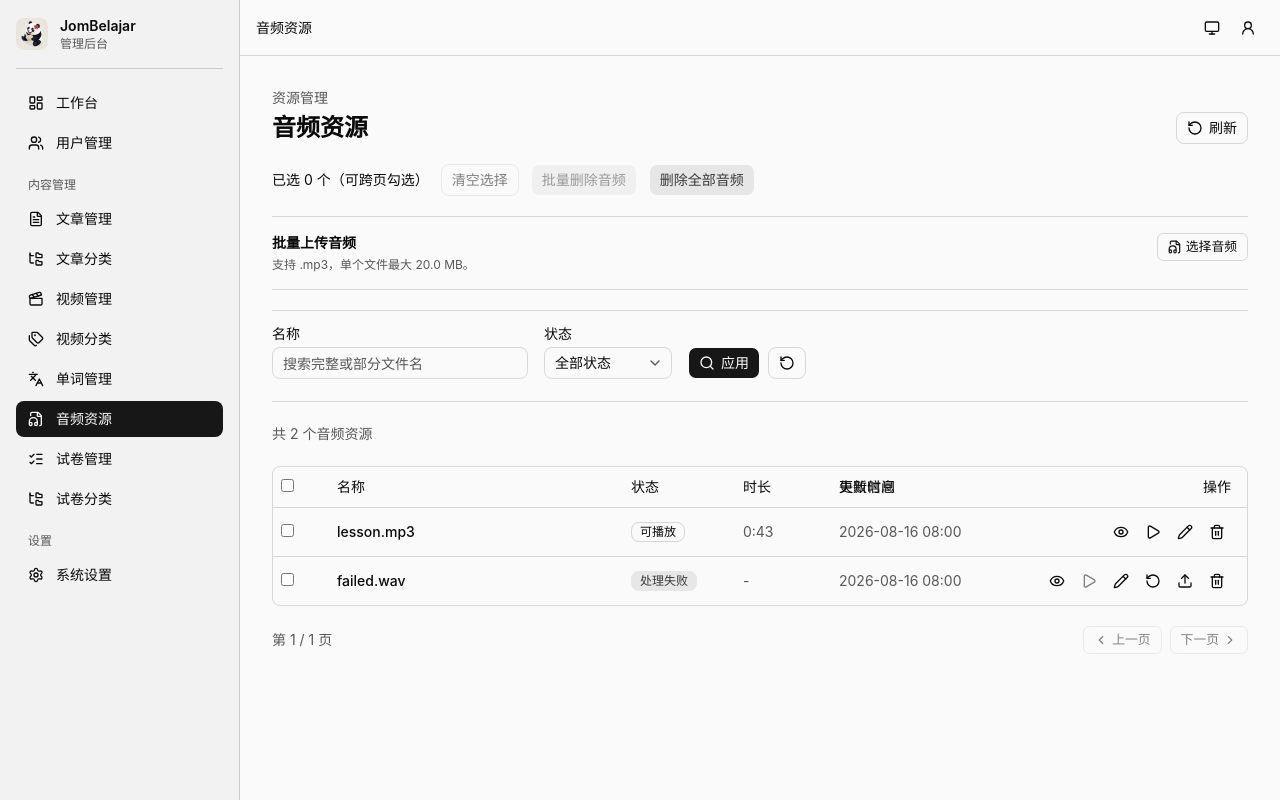
Test case: AudioLibrary › keeps the single-file control for retrying a failed resource
Click the button named "重新上传 failed.wav": [1185, 580] box [1171, 566, 1199, 594]
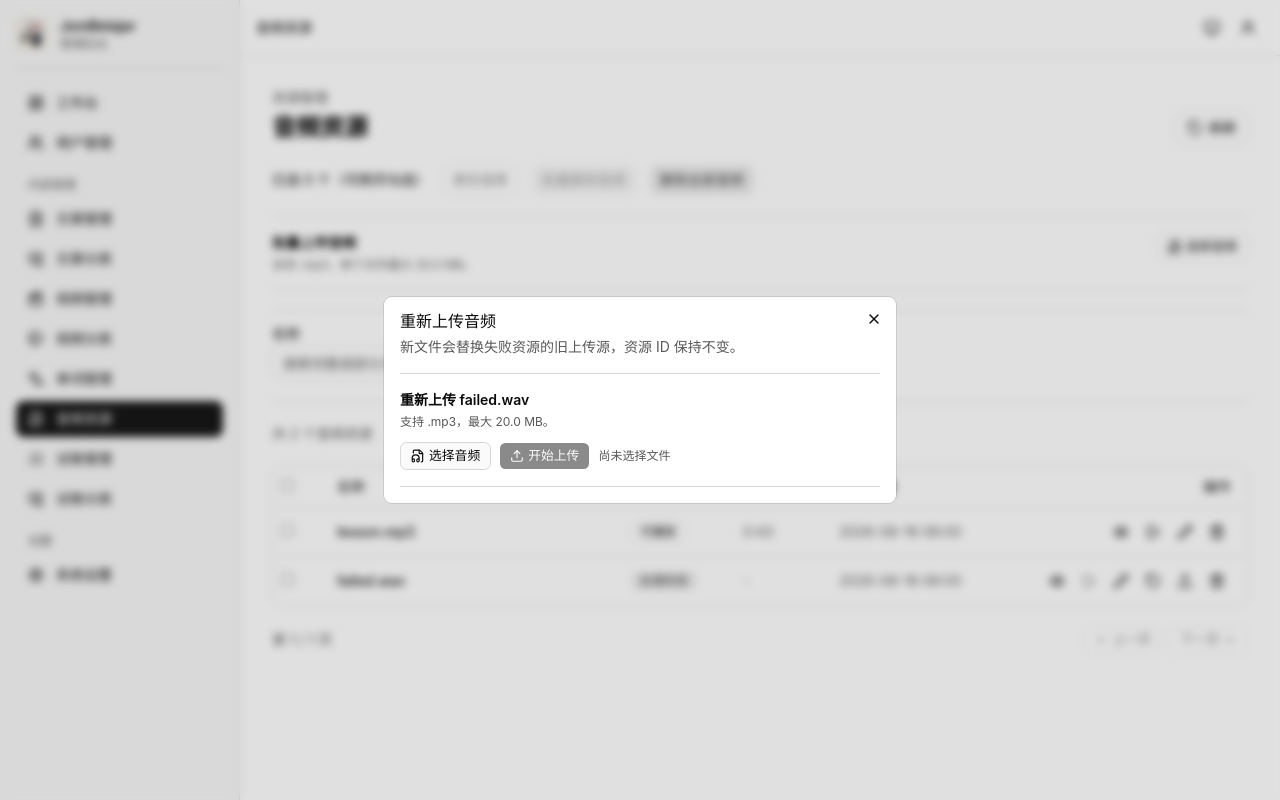
Expected: the heading "重新上传音频" is shown, [400, 311, 496, 331]
